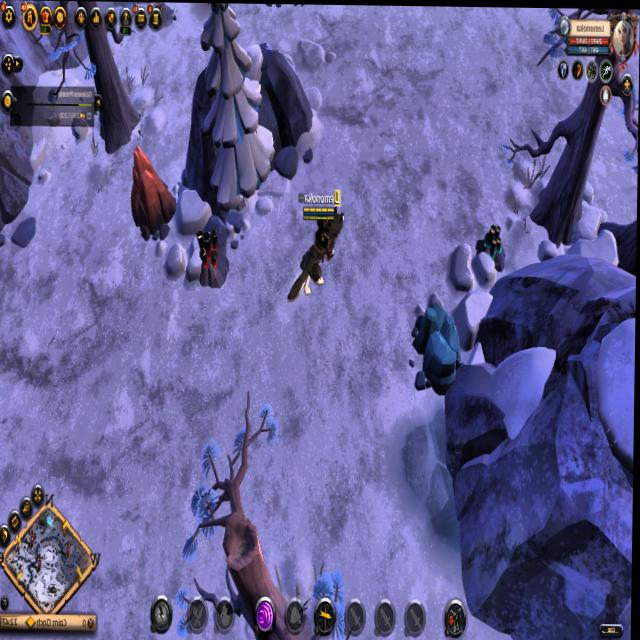ore tier 4: (472, 221, 509, 278)
ore tier 5: (197, 223, 231, 286)
rock tier 4: (421, 295, 474, 382)
rock tier 5: (129, 143, 176, 241)
